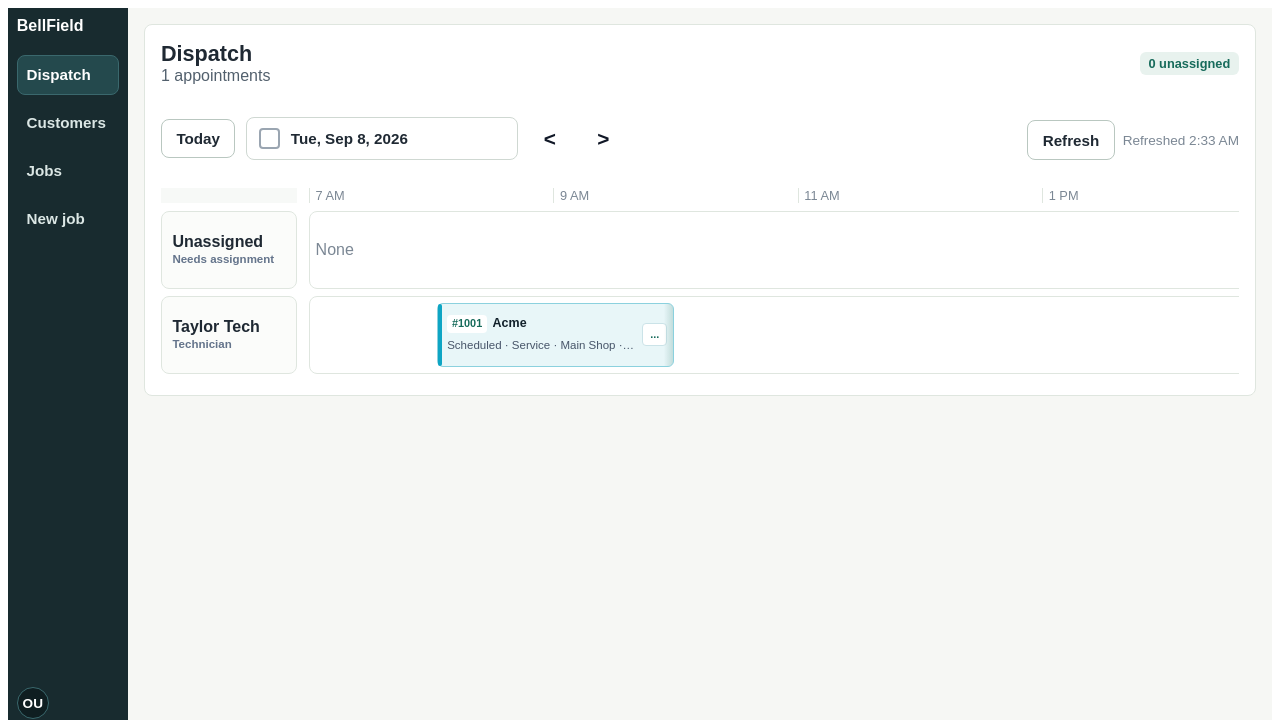
Test case: OfficeWorkspaceShell IA › uses a compact toggle account menu instead of the old top bar actions
Expected: the element named "Dispatch board" is shown, 144,24 -> 1256,396
Expected: the text "office@example.com" is not shown
What coordinates should you click on to do the following:
click the button with aria-label "Account menu for Office User"
I would click on:
 (33, 703)
Its box is 17,687 -> 49,719.
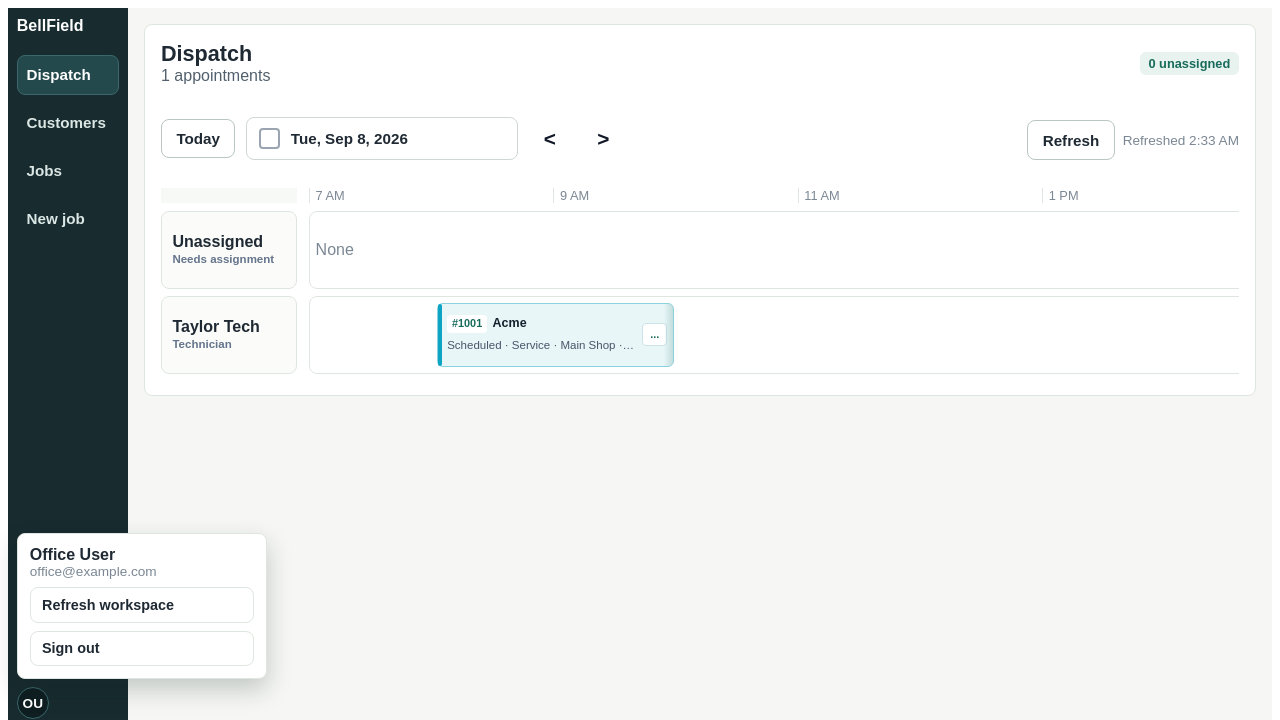
Expected: the menu named "Account menu" is shown, 17,533 -> 267,679
Expected: the text "office@example.com" is shown, 30,564 -> 157,579
What coordinates should you click on to do the following:
click the menu item "Sign out"
I would click on:
 (142, 648)
Its box is 30,631 -> 254,666.
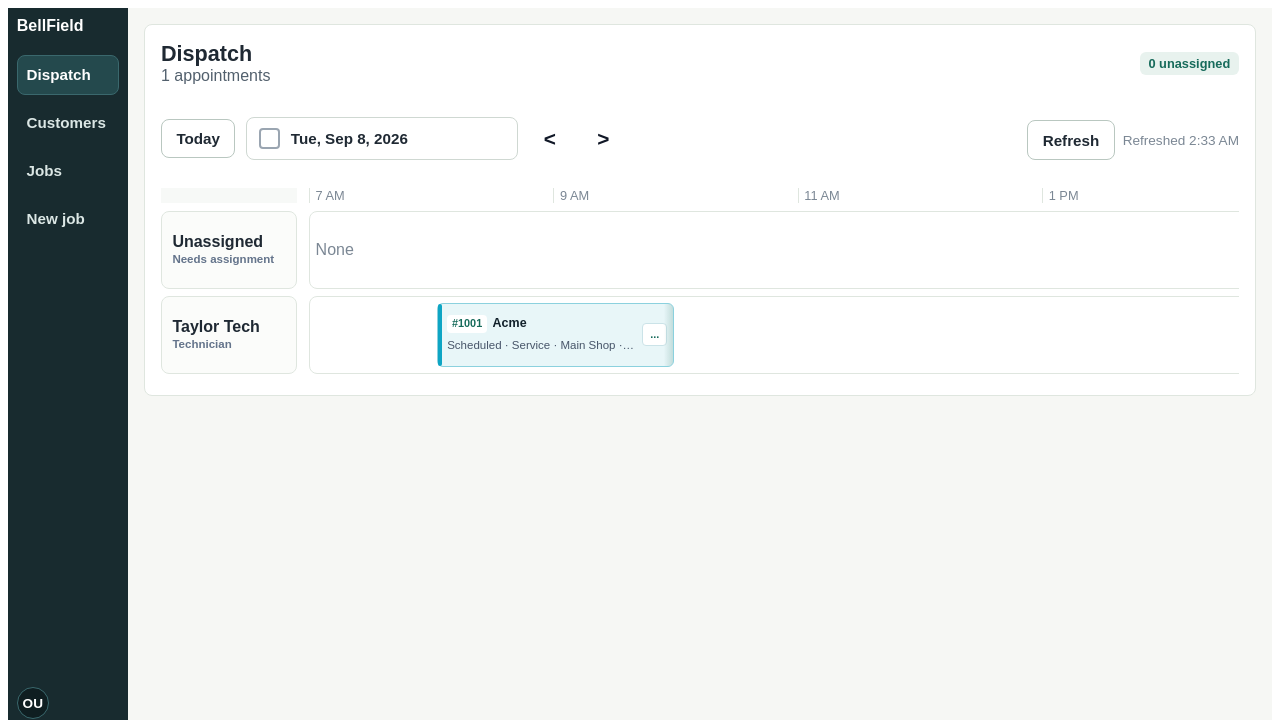
Expected: the menu "Account menu" is gone
